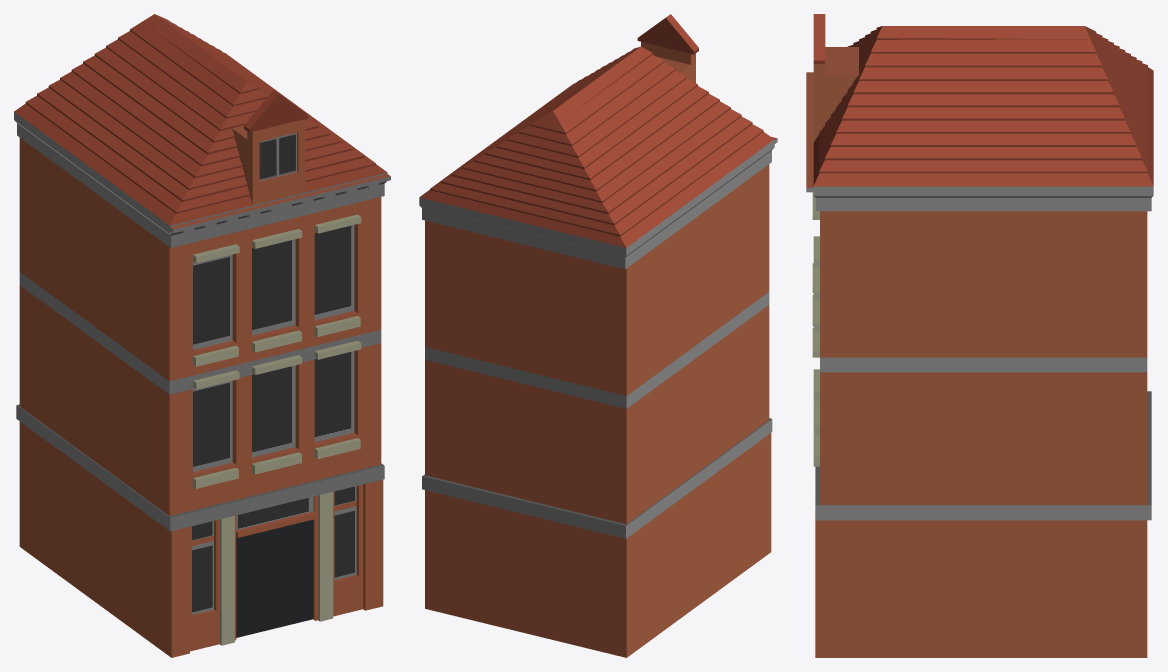
The model's file is SA_Bld_OfficeOld_Clean_02.gltf.
3 renders of one model, left to right at view 1: azimuth 30°, elevation 25°; view 2: azimuth 150°, elevation 25°; view 3: azimuth 270°, elevation 25°, orthographic. The views are drawn at different scales.
Visible parts, largest first — view 1: SA_Bld_OfficeOld_Clean_02; view 2: SA_Bld_OfficeOld_Clean_02; view 3: SA_Bld_OfficeOld_Clean_02.
Boxes of the visible parts, x1=… form: SA_Bld_OfficeOld_Clean_02: x1=14, y1=14, x2=390, y2=657; SA_Bld_OfficeOld_Clean_02: x1=419, y1=14, x2=777, y2=657; SA_Bld_OfficeOld_Clean_02: x1=806, y1=14, x2=1153, y2=657.
Bounding box in the file's own units: 8.52 × 20.16 × 10.79.
Materials: 1 (1 with a texture image).
